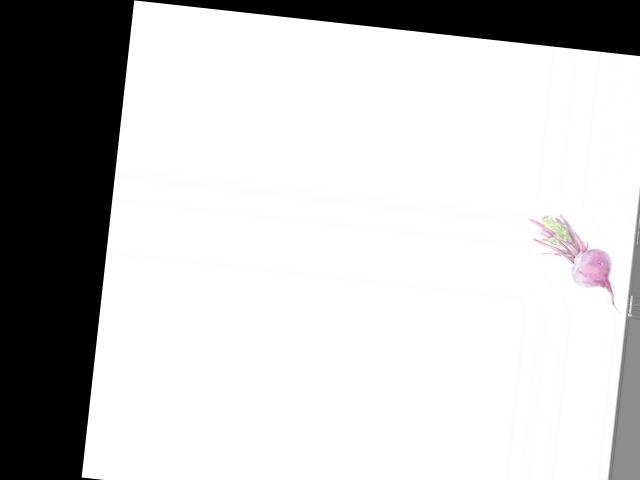beet: (519, 211, 631, 313)
